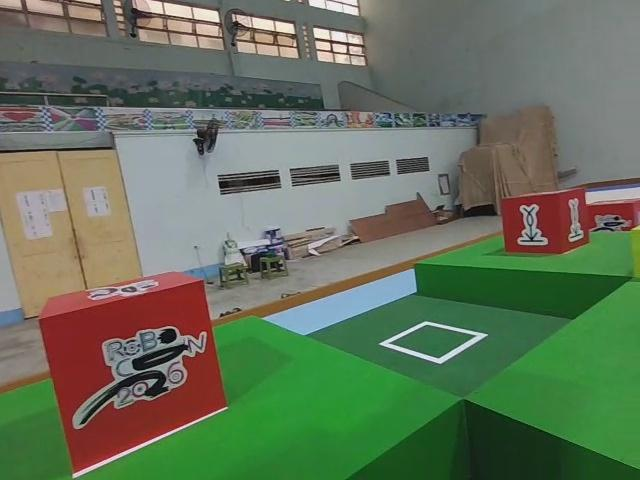R1: (37, 272, 228, 475), (583, 199, 640, 242)
R2 Real: (500, 188, 590, 262)
